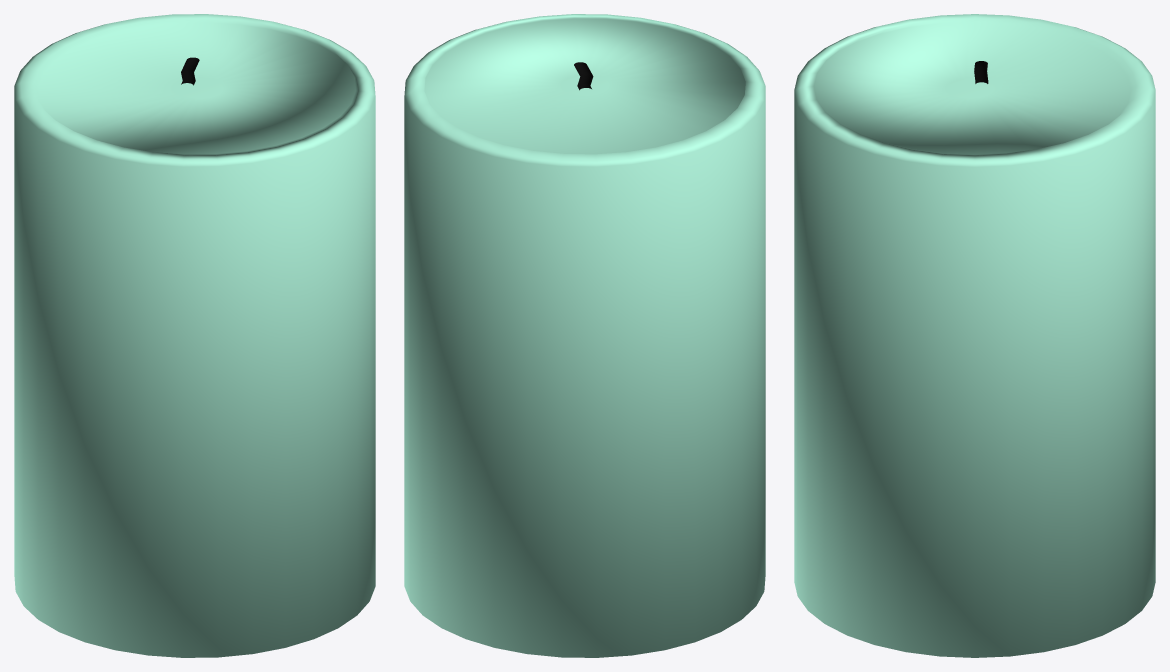
The model's file is velita.fbx.
The picture shows the model from 3 angles, left to right: view 1: azimuth 30°, elevation 25°; view 2: azimuth 150°, elevation 25°; view 3: azimuth 270°, elevation 25°; orthographic projection.
Parts seen in each view (by area): view 1: vela azulita; view 2: vela azulita; view 3: vela azulita.
Part boxes in pixels (box(x1,y1,x2,y2)): vela azulita: box(14, 14, 375, 657); vela azulita: box(404, 14, 765, 657); vela azulita: box(794, 14, 1155, 657).
Bounding box in the file's own units: 84.65 × 134 × 84.65.
